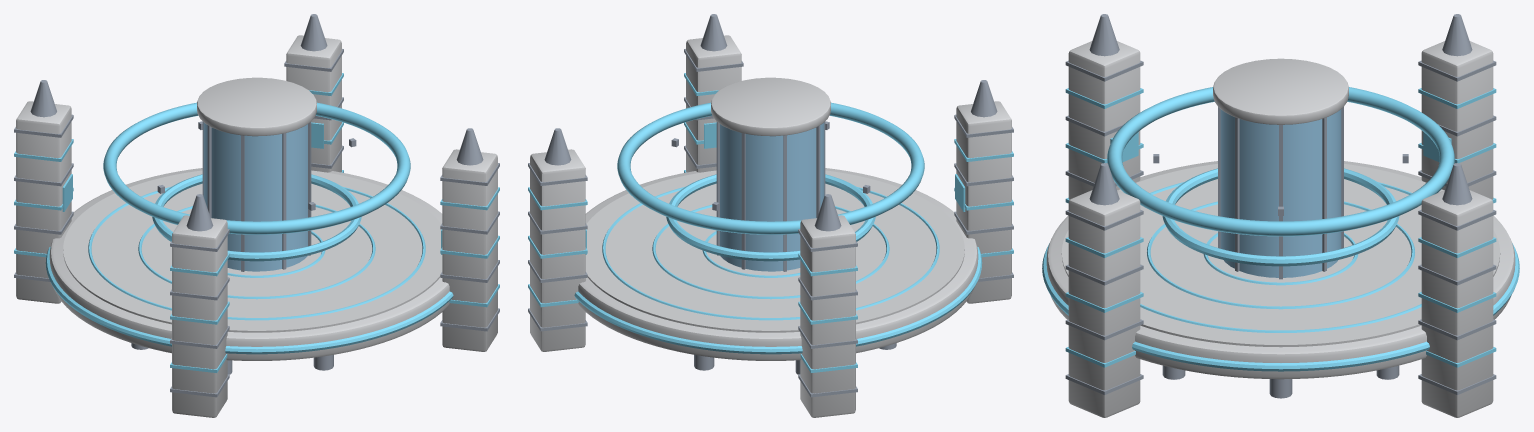
File: Reactor.fbx
3 renders of one model, left to right at view 1: azimuth 30°, elevation 25°; view 2: azimuth 150°, elevation 25°; view 3: azimuth 270°, elevation 25°, orthographic. The views are drawn at different scales.
Parts seen in each view (by area): view 1: Reactor_Cuerpo, Reactor_Luz, Reactor_Cristal, Reactor_Metal; view 2: Reactor_Cuerpo, Reactor_Luz, Reactor_Cristal, Reactor_Metal; view 3: Reactor_Cuerpo, Reactor_Luz, Reactor_Cristal, Reactor_Metal.
Boxes of the visible parts, x1,y1,x2,y2 form: Reactor_Cuerpo: [16, 35, 497, 417]; Reactor_Luz: [14, 73, 499, 372]; Reactor_Cristal: [203, 122, 307, 271]; Reactor_Metal: [14, 14, 499, 397]; Reactor_Cuerpo: [530, 35, 1011, 417]; Reactor_Luz: [528, 73, 1013, 372]; Reactor_Cristal: [720, 122, 824, 271]; Reactor_Metal: [528, 14, 1013, 397]; Reactor_Cuerpo: [1046, 41, 1515, 417]; Reactor_Luz: [1042, 87, 1519, 371]; Reactor_Cristal: [1220, 109, 1341, 277]; Reactor_Metal: [1065, 14, 1496, 398].
Bounding box in the file's own units: 12640 × 7100 × 12640.
